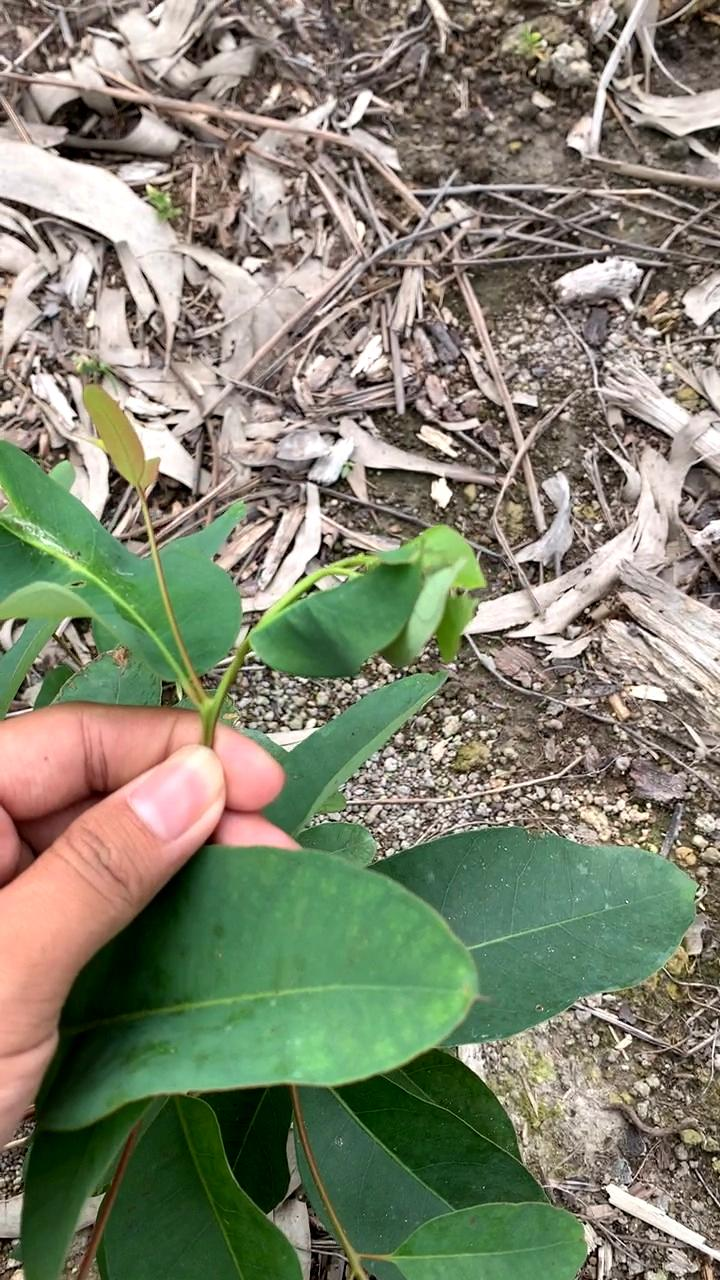Leaf Roller - Leaf: (260, 533, 485, 677)
